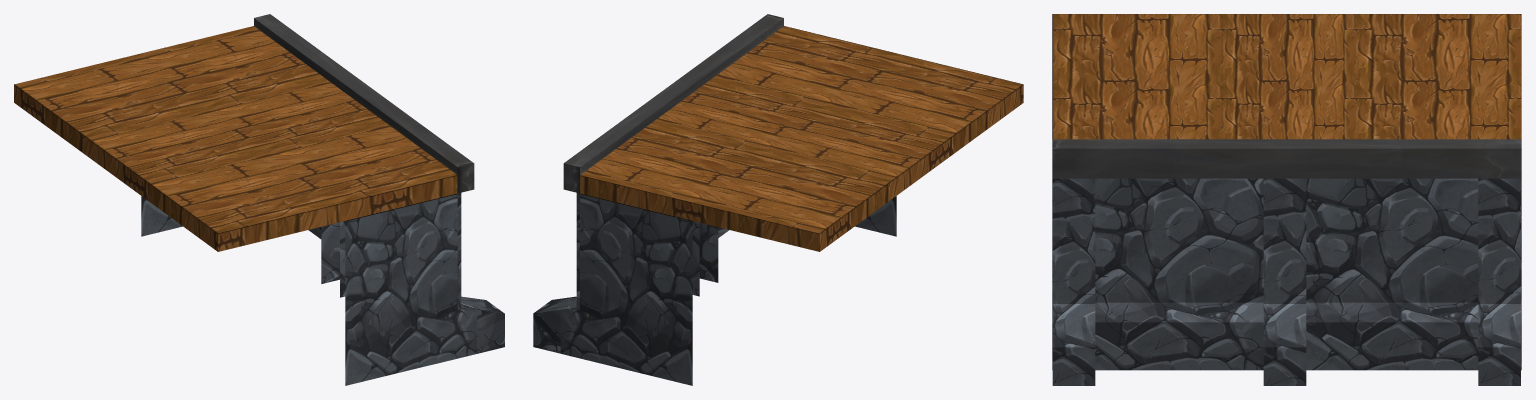
The model's file is Harbor.fbx.
3 views of the same model, side by side, from view 1: azimuth 30°, elevation 25°; view 2: azimuth 150°, elevation 25°; view 3: azimuth 270°, elevation 25° (orthographic). The views are drawn at different scales.
Visible parts, largest first — view 1: pCube5; view 2: pCube5; view 3: pCube5.
Boxes of the visible parts, x1,y1,x2,y2 form: pCube5: [14, 14, 504, 385]; pCube5: [533, 14, 1023, 385]; pCube5: [1052, 14, 1521, 385].
Bounding box in the file's own units: 12.48 × 7.96 × 15.37.
